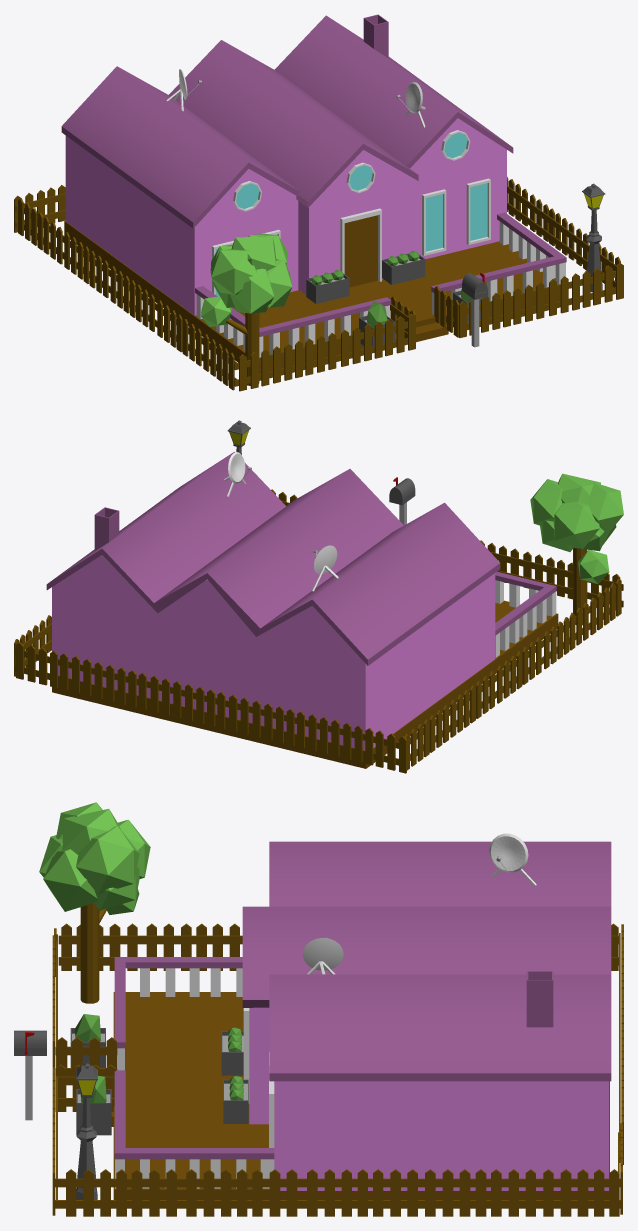
3 views of the same model, one above another, from view 1: azimuth 30°, elevation 25°; view 2: azimuth 150°, elevation 25°; view 3: azimuth 270°, elevation 25° (orthographic). The views are drawn at different scales.
Visible parts, largest first — view 1: ee17; view 2: ee17; view 3: ee17.
Part boxes in pixels (x1=…): ee17: x1=14, y1=14, x2=623, y2=391; ee17: x1=14, y1=420, x2=623, y2=773; ee17: x1=14, y1=802, x2=623, y2=1216.
Size of the model in its own units: 25.71 by 10.67 by 26.07.
